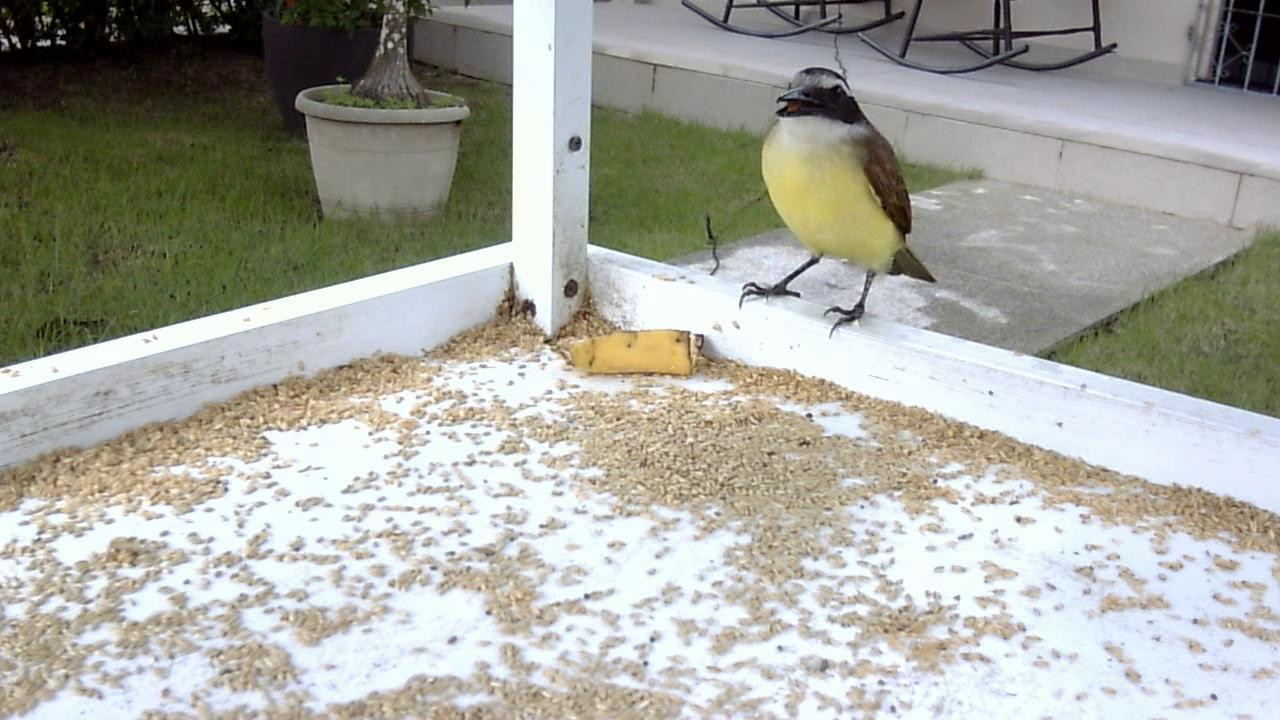bem_te_vi: (723, 53, 948, 351)
